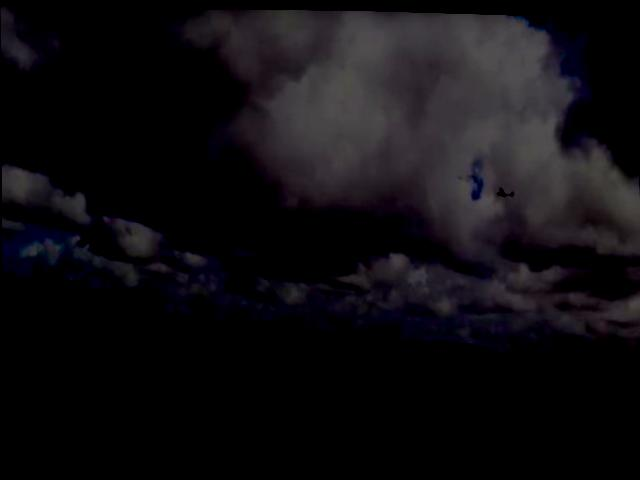iha: (494, 181, 513, 198)
